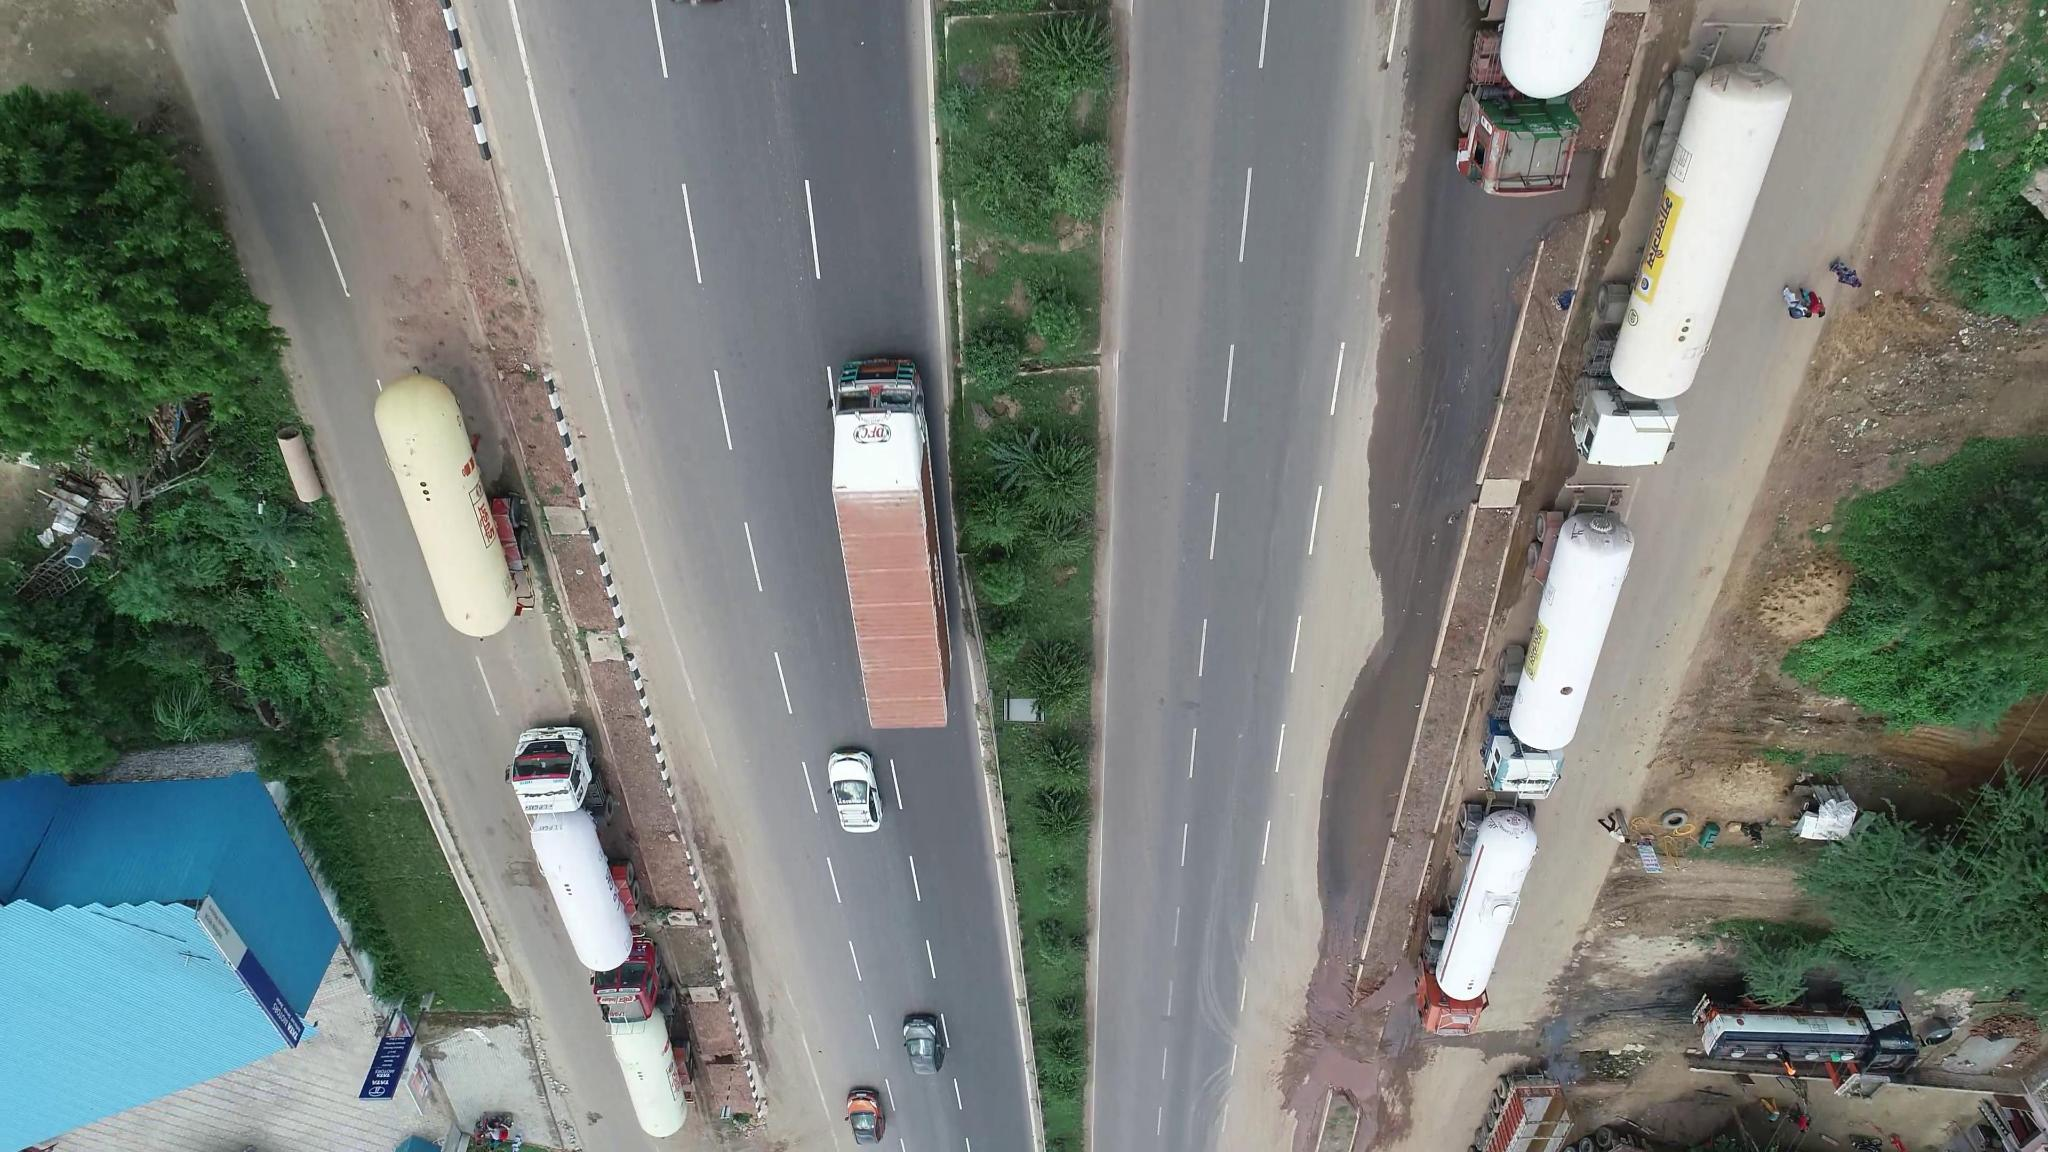Muddy_road: (1400, 214, 1521, 454)
Waterlogging: (1308, 667, 1421, 886)
